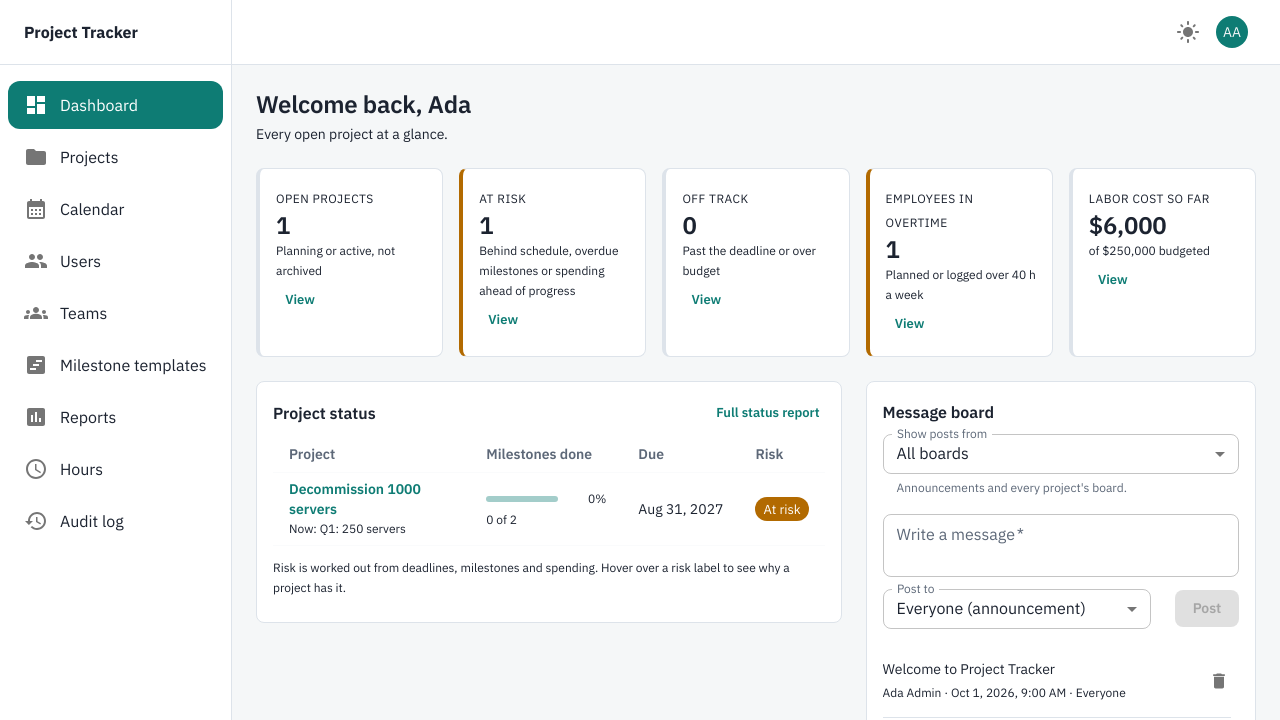
Test: message board › keeps the draft and shows the error when posting fails
Type "Hello" into the text box labelled "Write a message *" at [1061, 545], box [897,522,1225,568]
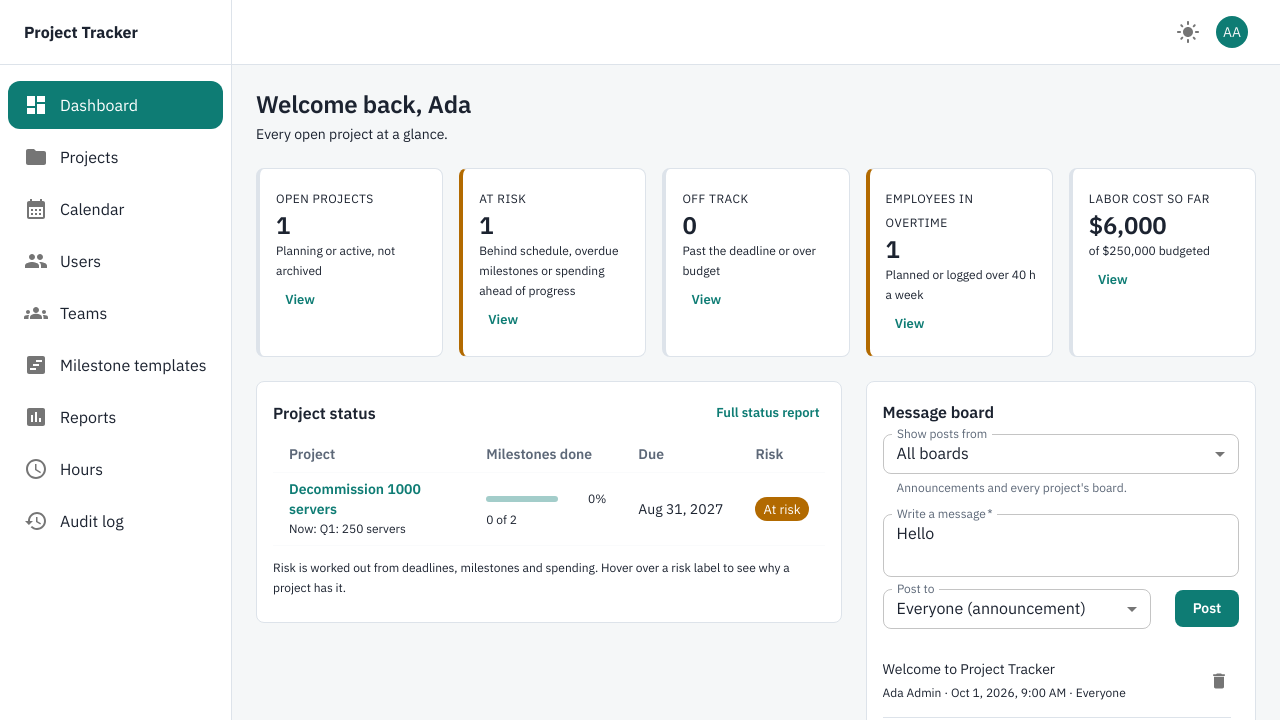
Click the button "Post" at [1207, 609], box [1175,590,1239,627]
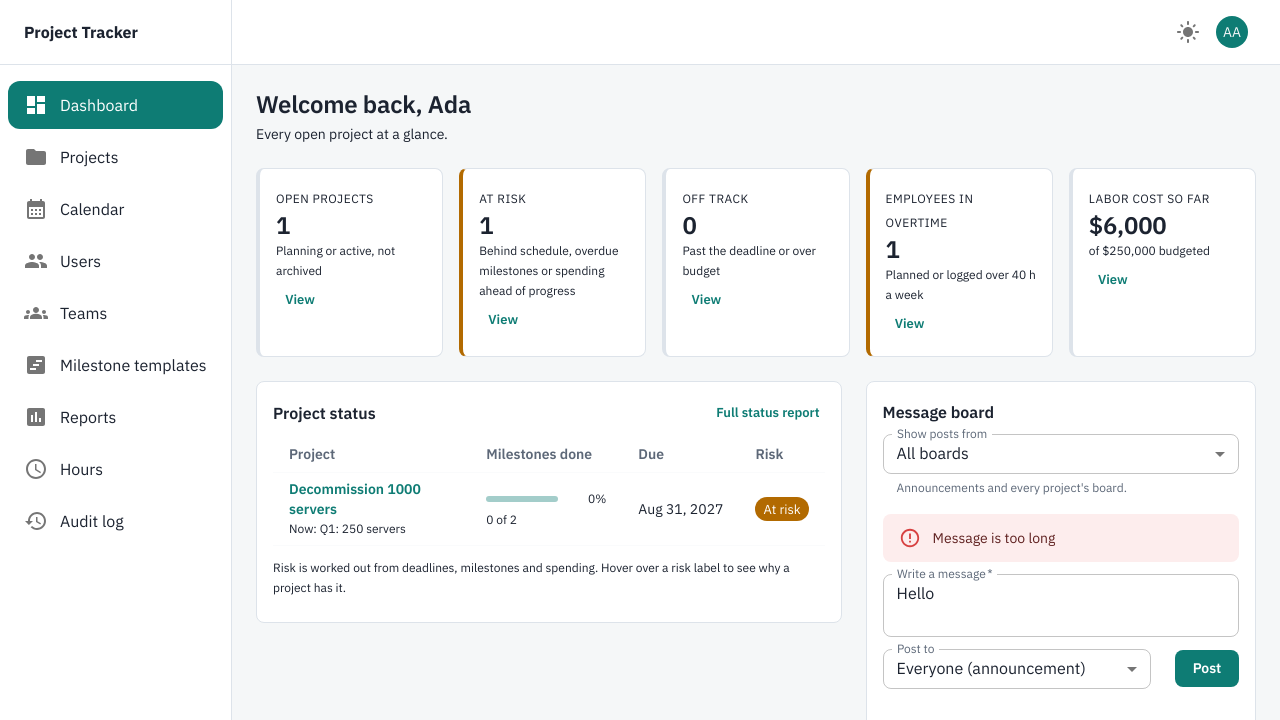
Expected: the button "Post" is enabled, [1175,650,1239,687]
Expected: the text "Message is too long" is shown, [933,528,1055,546]
